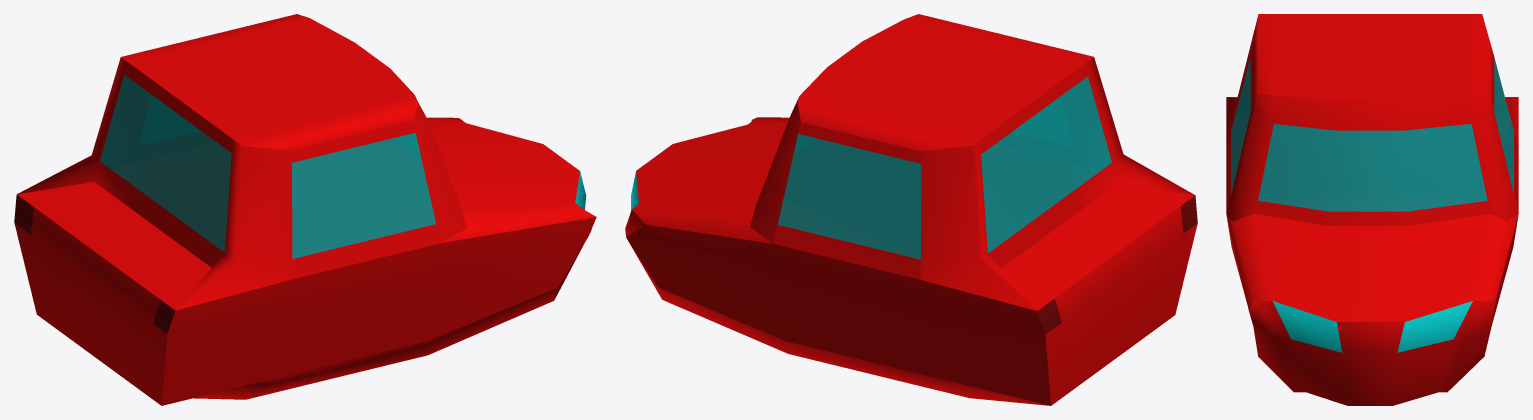
File: CarTwo.fbx
3 views of the same model, side by side, from view 1: azimuth 30°, elevation 25°; view 2: azimuth 150°, elevation 25°; view 3: azimuth 270°, elevation 25° (orthographic). The views are drawn at different scales.
Visible parts, largest first — view 1: pCube42; view 2: pCube42; view 3: pCube42.
Part boxes in pixels (x1,y1,x2,y2): pCube42: (14, 14, 596, 405); pCube42: (625, 14, 1197, 405); pCube42: (1226, 14, 1518, 405).
Size of the model in its own units: 1.09 by 0.5562 by 0.6239.
